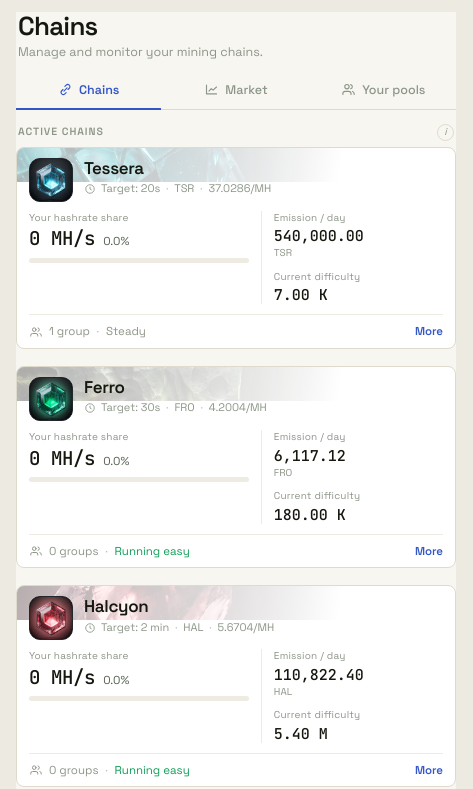
Test: ChainsView › the fee slider and Close button carry a discriminating label per pool
This screenshot has width=473, height=789.
Click the tab with class "segtab" showing "Your pools": click(383, 90) [311,71,456,110]
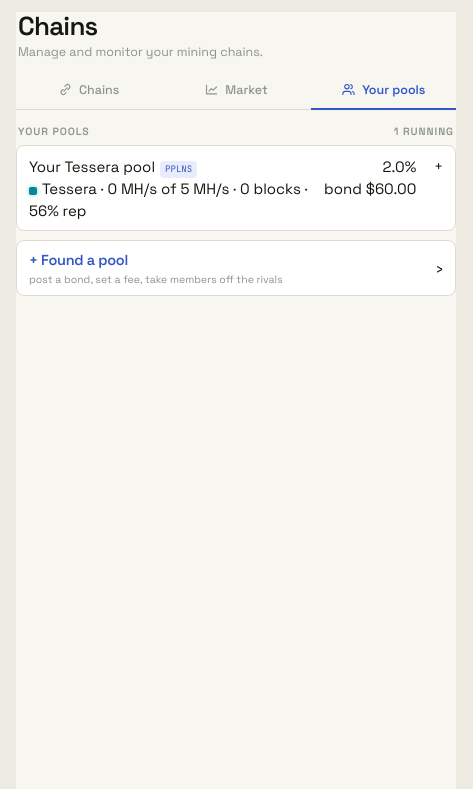
Click the button with class "rig-hd": click(236, 188) [17,146,455,230]
(page scrolled)
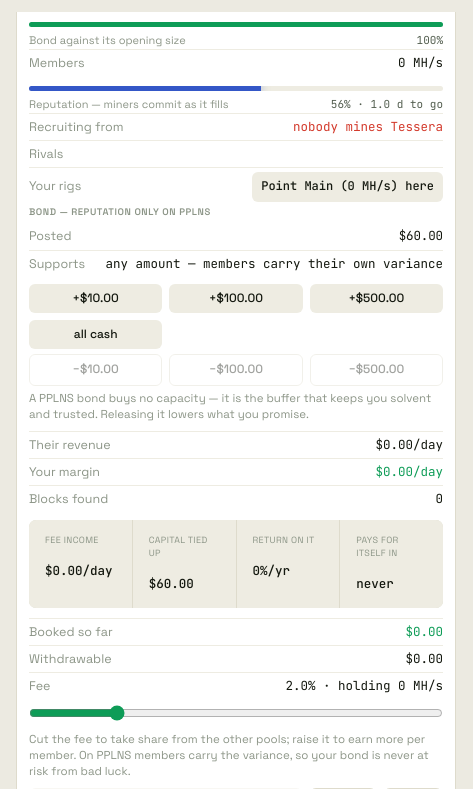
Expected: the slider named "Fee for Your Tessera pool" is shown, [29,705,443,721]
